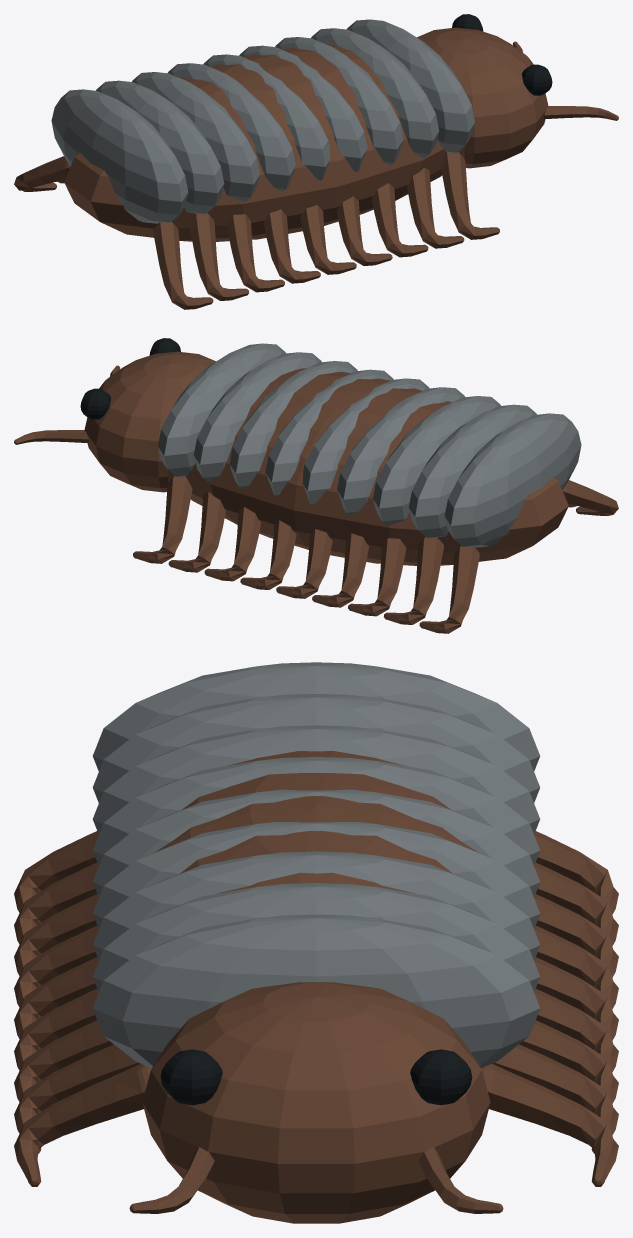
File: giant-isopod.dae
3 renders of one model, top to bottom at view 1: azimuth 30°, elevation 25°; view 2: azimuth 150°, elevation 25°; view 3: azimuth 270°, elevation 25°, orthographic. The views are drawn at different scales.
Visible parts, largest first — view 1: part2-node, part1-node, part0-node; view 2: part2-node, part1-node, part0-node; view 3: part1-node, part2-node, part0-node.
Part boxes in pixels (<box>): part2-node: <box>14,27,618,309</box>; part1-node: <box>51,19,474,223</box>; part0-node: <box>452,14,552,95</box>; part2-node: <box>14,351,618,633</box>; part1-node: <box>158,343,581,547</box>; part0-node: <box>80,338,180,419</box>; part1-node: <box>92,662,540,1068</box>; part2-node: <box>14,751,618,1223</box>; part0-node: <box>160,1049,472,1105</box>.
Size of the model in its own units: 0.4 by 0.2368 by 0.1168.
